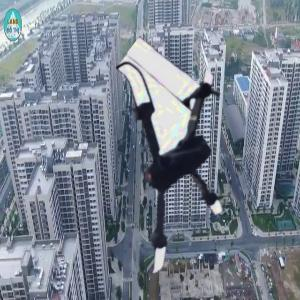drone: (67, 66, 270, 269)
